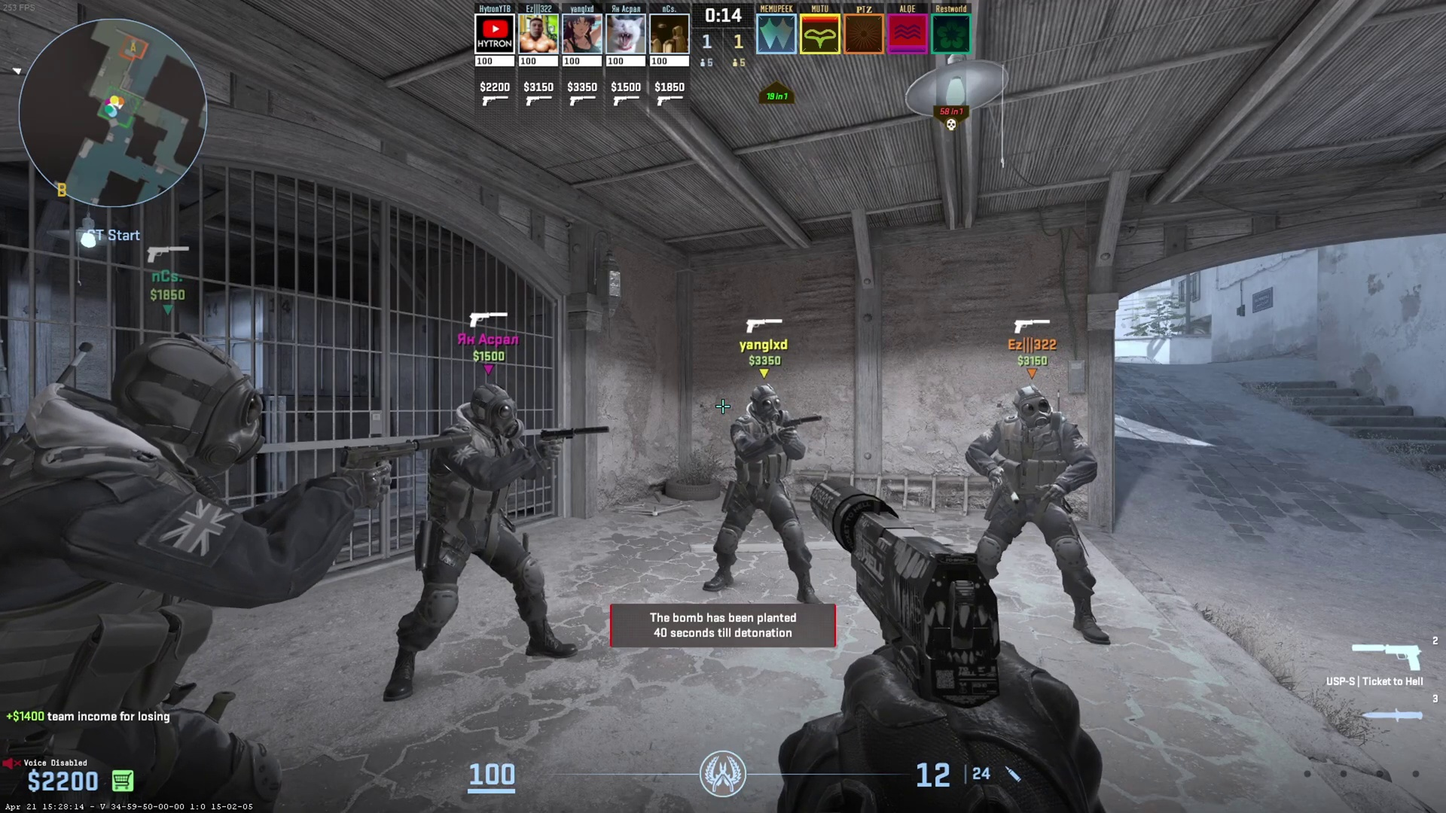CT: (0, 338, 279, 781), (412, 388, 555, 680), (983, 391, 1101, 638), (724, 381, 814, 598)
